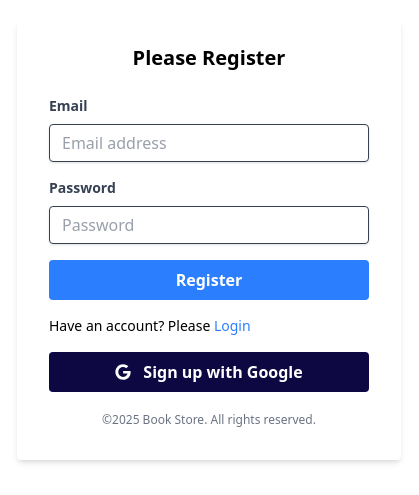
Test case: Register Component › displays error message on registration failure
Type "fail@example.com" into the field with placeholder "Email address". click: (209, 143)
box: [49, 124, 369, 162]
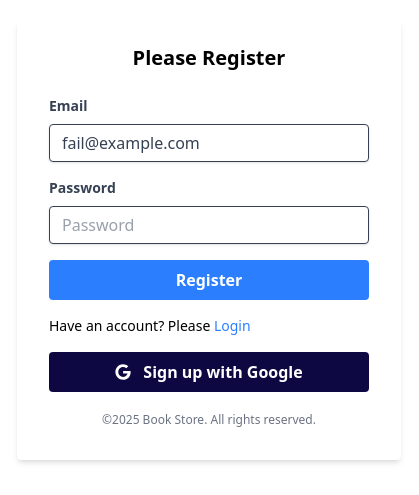
Type "wrongpass" into the password field with placeholder "Password". click: (209, 225)
box: [49, 206, 369, 244]
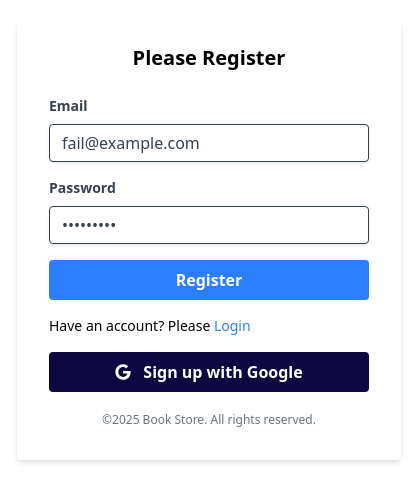
Click the button "Register". click: (209, 280)
box: [49, 260, 369, 300]
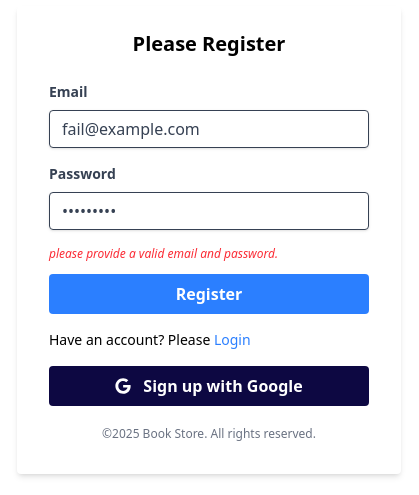
Result: the text "please provide a valid email and password." is shown at [49, 245, 278, 262]
